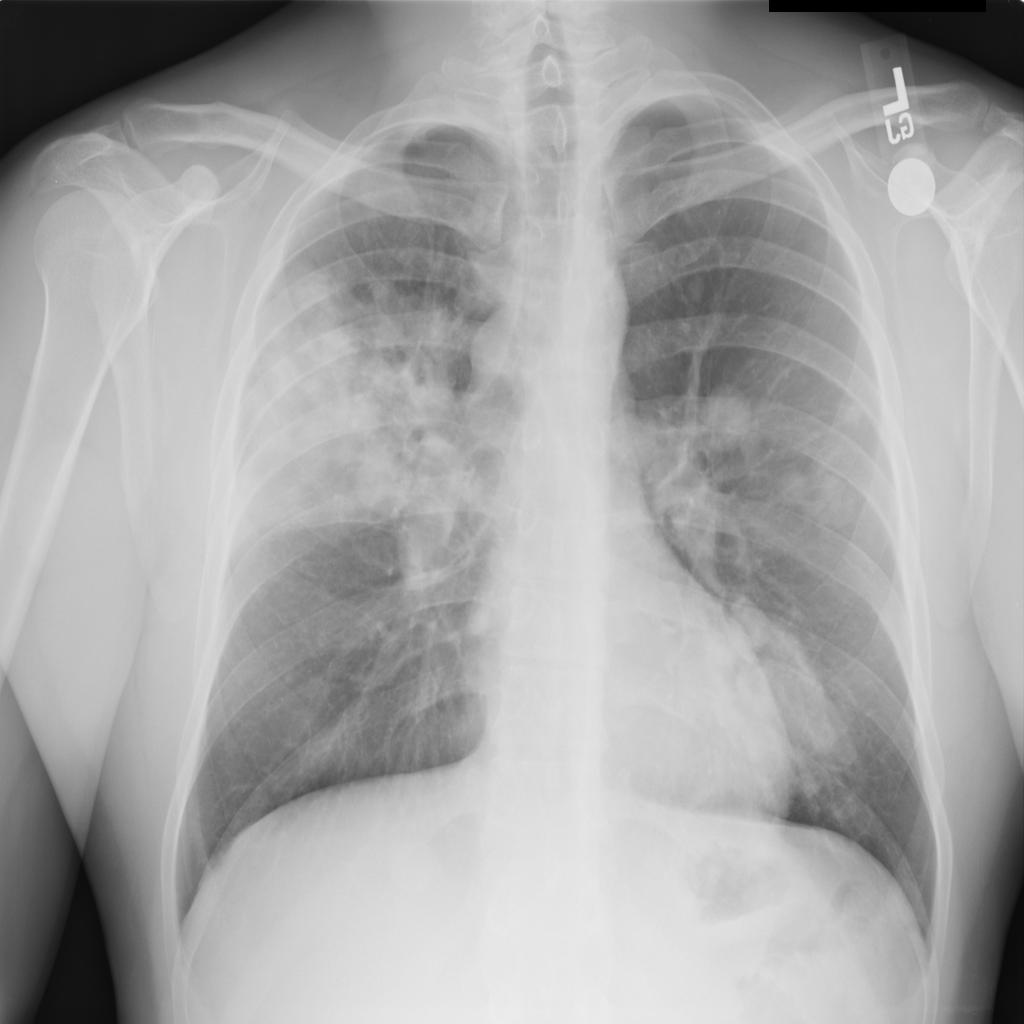nodule: (681, 577, 874, 807), (229, 341, 398, 523), (245, 279, 378, 427), (327, 399, 453, 540), (694, 373, 766, 459), (801, 458, 869, 540), (769, 450, 832, 524), (829, 387, 881, 440), (674, 263, 717, 320)
